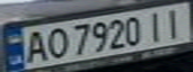0: (124, 12, 148, 46)
2: (106, 16, 130, 51)
7: (69, 21, 93, 56)
9: (90, 18, 112, 53)
A: (21, 28, 51, 64)
I: (160, 4, 190, 38), (142, 8, 169, 42)
O: (42, 25, 69, 60)
